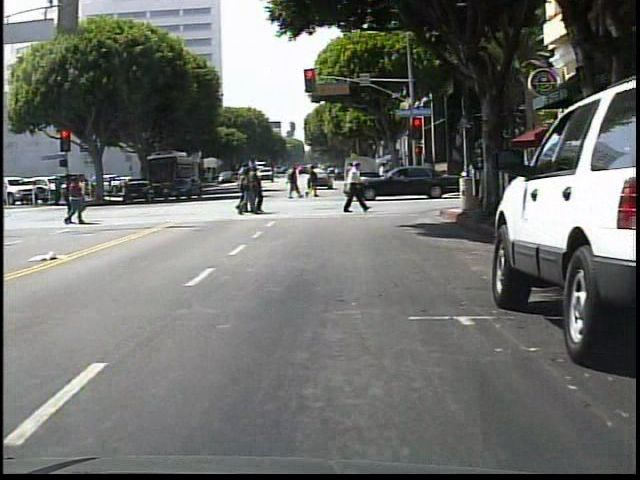person: (342, 158, 372, 219)
